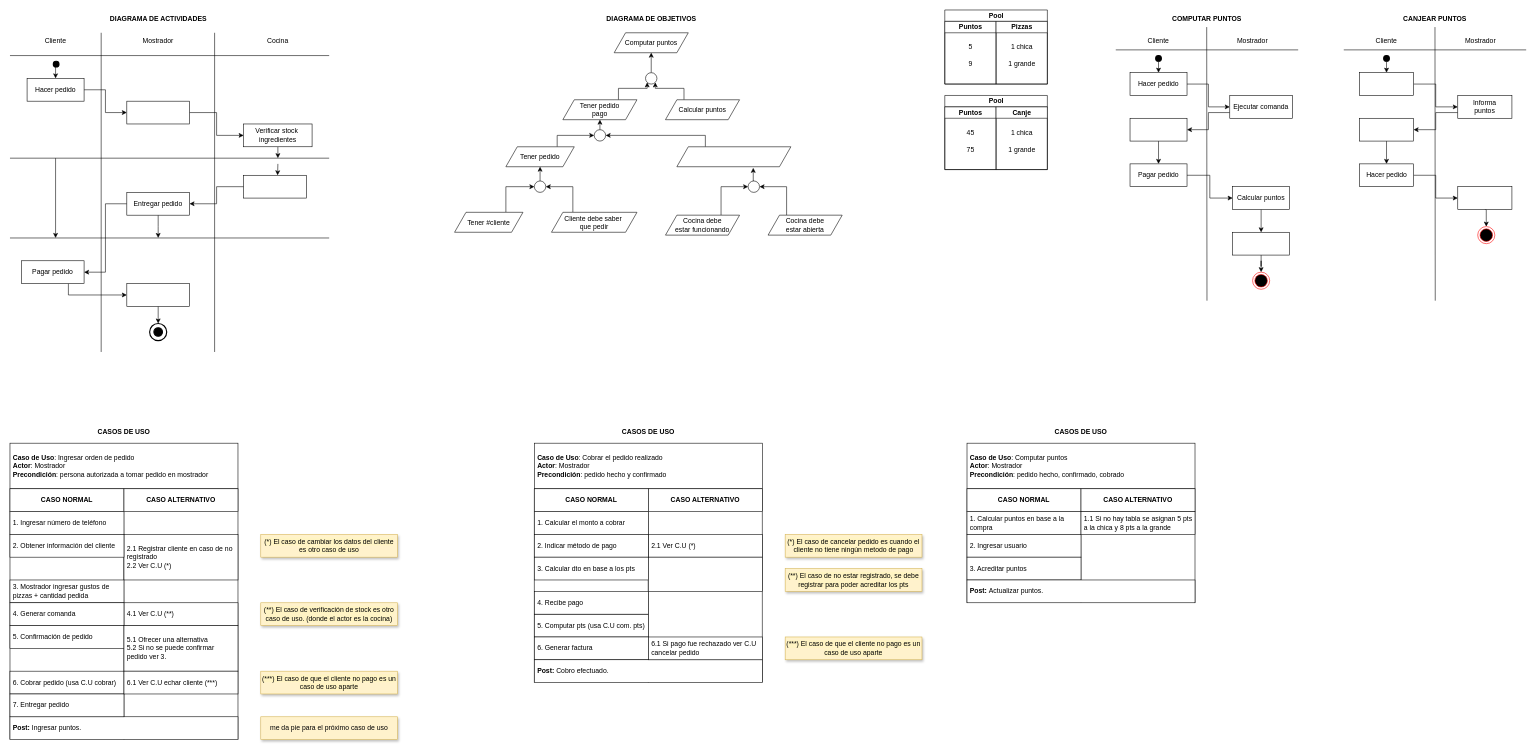
This 1536x754 diagram has some shape labels left out. Each missing label, with the centre of its shape:
"3.1 Si no tiene nada ver 4. 3.2 Si no quiere usar los pts ver 4 3.3 Ver C.U (**)" goes at point 705,574.
"Acreditar puntos" goes at point 1261,243.
"Calcular y computar puntos" goes at point 158,294.
"Cocinar pedido" goes at point 274,186.
"Consultar puntos" goes at point 1386,83.
"Descontar puntos" goes at point 1484,197.
"Elegir opción de canje" goes at point 1386,129.
"Generar comanda" goes at point 158,112.
"Recibir pedido" goes at point 1158,129.
"Tener ingredientes del pedido" goes at point 733,156.
